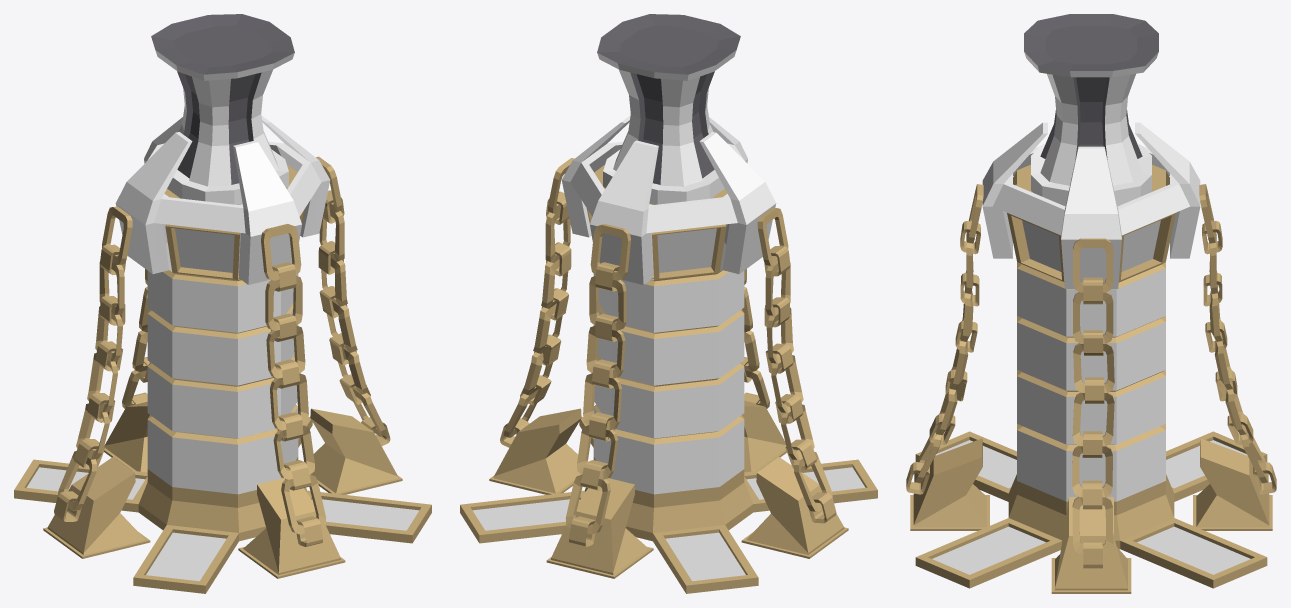
Rendered from Torre_Fuego1 (1).fbx.
3 renders of one model, left to right at view 1: azimuth 30°, elevation 25°; view 2: azimuth 150°, elevation 25°; view 3: azimuth 270°, elevation 25°, orthographic. The views are drawn at different scales.
Visible parts, largest first — view 1: Torre_Fuego1; view 2: Torre_Fuego1; view 3: Torre_Fuego1.
Part boxes in pixels (<box>): Torre_Fuego1: <box>14,14,431,593</box>; Torre_Fuego1: <box>460,14,877,593</box>; Torre_Fuego1: <box>906,14,1276,593</box>.
Size of the model in its own units: 209 by 283 by 201.
